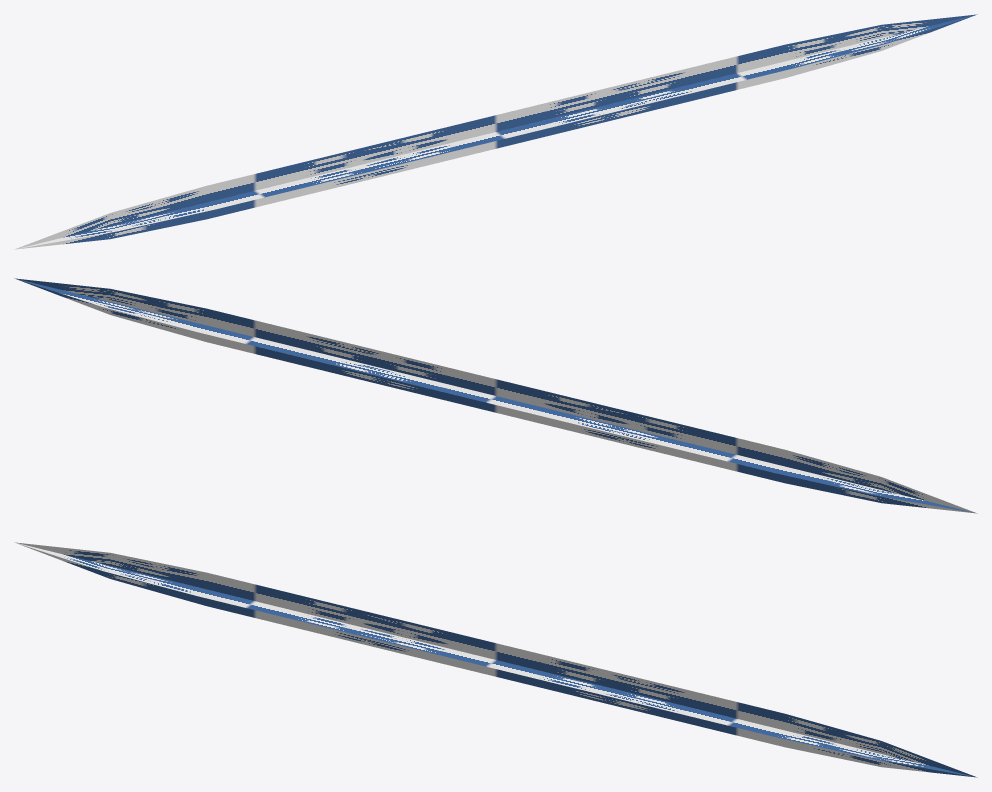
Rendered from Rui_Line8.fbx.
The picture shows the model from 3 angles, top to bottom: view 1: azimuth 30°, elevation 25°; view 2: azimuth 150°, elevation 25°; view 3: azimuth 330°, elevation 25°; orthographic projection.
Visible parts, largest first — view 1: SM_e_Plc_P1007_Line008; view 2: SM_e_Plc_P1007_Line008; view 3: SM_e_Plc_P1007_Line008.
Part boxes in pixels (x1,y1,x2,y2): SM_e_Plc_P1007_Line008: (14, 14, 977, 249); SM_e_Plc_P1007_Line008: (14, 278, 977, 513); SM_e_Plc_P1007_Line008: (14, 542, 977, 777).
Bounding box in the file's own units: 300 × 10 × 10.
